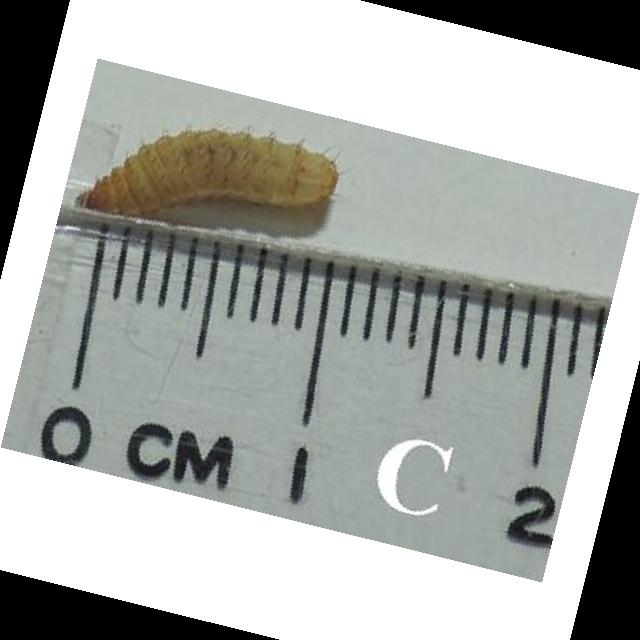Maggot: (73, 132, 339, 221)
